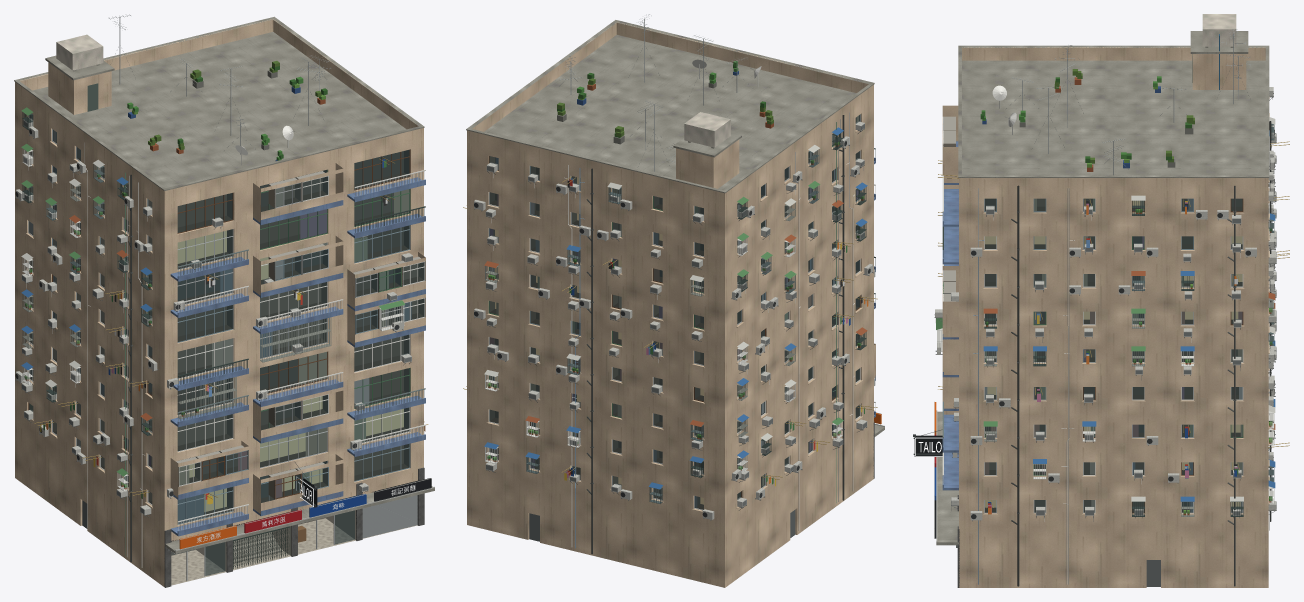
File: hk-balcony-tenement.glb
The picture shows the model from 3 angles, left to right: view 1: azimuth 30°, elevation 25°; view 2: azimuth 150°, elevation 25°; view 3: azimuth 270°, elevation 25°; orthographic projection. The views are drawn at different scales.
Visible parts, largest first — view 1: Building_wall, Building_glass, Building_slab, Building_room, Building_metal, Building_vc, Building_frame, Building_blue, Building_ac, Building_lit_warm, Building_floor_tile, Building_board (+3 smaller); view 2: Building_wall, Building_slab, Building_vc, Building_metal, Building_glass, Building_ac, Building_room, Building_frame, Building_tank; view 3: Building_wall, Building_slab, Building_vc, Building_metal, Building_glass, Building_ac, Building_room, Building_blue, Building_frame, Building_tank, Building_board, Building_lit_warm (+1 smaller).
Boxes of the visible parts, x1,y1,x2,y2 form: Building_wall: [15, 19, 425, 586]; Building_glass: [29, 115, 424, 575]; Building_slab: [14, 16, 434, 563]; Building_room: [29, 115, 423, 571]; Building_metal: [15, 14, 434, 569]; Building_vc: [21, 61, 425, 567]; Building_frame: [28, 129, 425, 580]; Building_blue: [170, 177, 425, 536]; Building_ac: [15, 118, 412, 515]; Building_lit_warm: [178, 231, 403, 511]; Building_floor_tile: [171, 518, 417, 585]; Building_board: [179, 475, 431, 549]; Building_wall: [467, 22, 875, 587]; Building_slab: [466, 20, 884, 436]; Building_vc: [484, 59, 868, 554]; Building_metal: [474, 14, 884, 541]; Building_glass: [489, 115, 859, 509]; Building_ac: [474, 121, 875, 519]; Building_room: [490, 115, 859, 509]; Building_frame: [488, 114, 860, 510]; Building_tank: [684, 112, 730, 147]; Building_wall: [942, 47, 1269, 587]; Building_slab: [936, 31, 1269, 545]; Building_vc: [935, 34, 1275, 586]; Building_metal: [913, 29, 1276, 586]; Building_glass: [985, 198, 1242, 512]; Building_ac: [935, 87, 1276, 520]; Building_room: [943, 116, 1242, 512]; Building_blue: [942, 141, 958, 490]; Building_frame: [943, 116, 1243, 513]; Building_tank: [1202, 14, 1236, 46]; Building_board: [914, 402, 942, 538]; Building_lit_warm: [985, 201, 1242, 507].
Bounding box in the file's own units: 25 × 36.64 × 26.76.
Materials: 18 (8 with a texture image).
